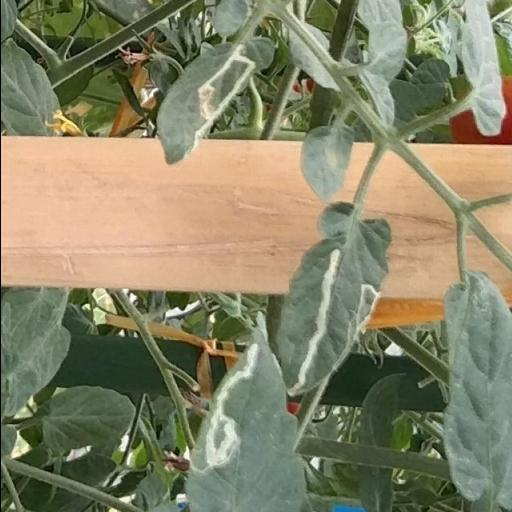Healthy: (38, 386, 138, 454)
Leaf Miner: (184, 318, 310, 512), (272, 198, 394, 398), (152, 36, 276, 170)
